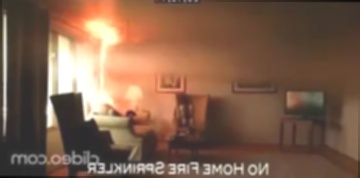fire: (78, 2, 138, 106)
